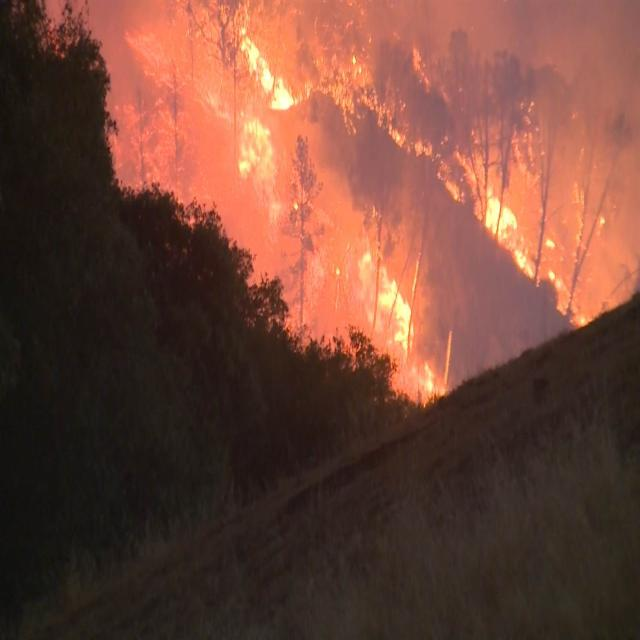Fire: (98, 8, 632, 406)
